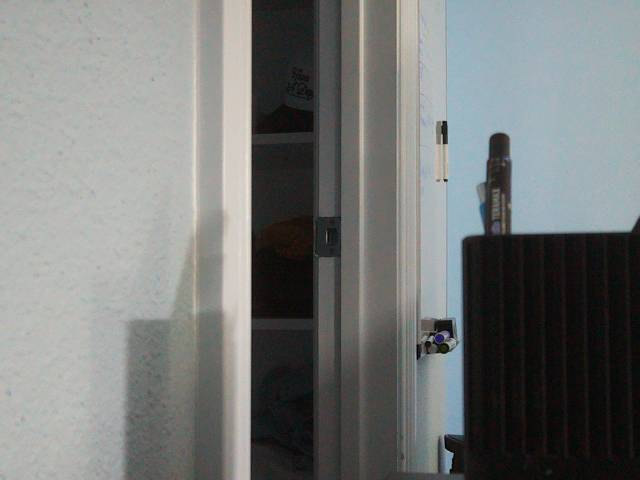crater: (197, 108, 378, 289), (222, 300, 403, 480), (189, 0, 364, 175), (420, 219, 594, 394), (213, 69, 364, 220), (231, 288, 358, 416)
